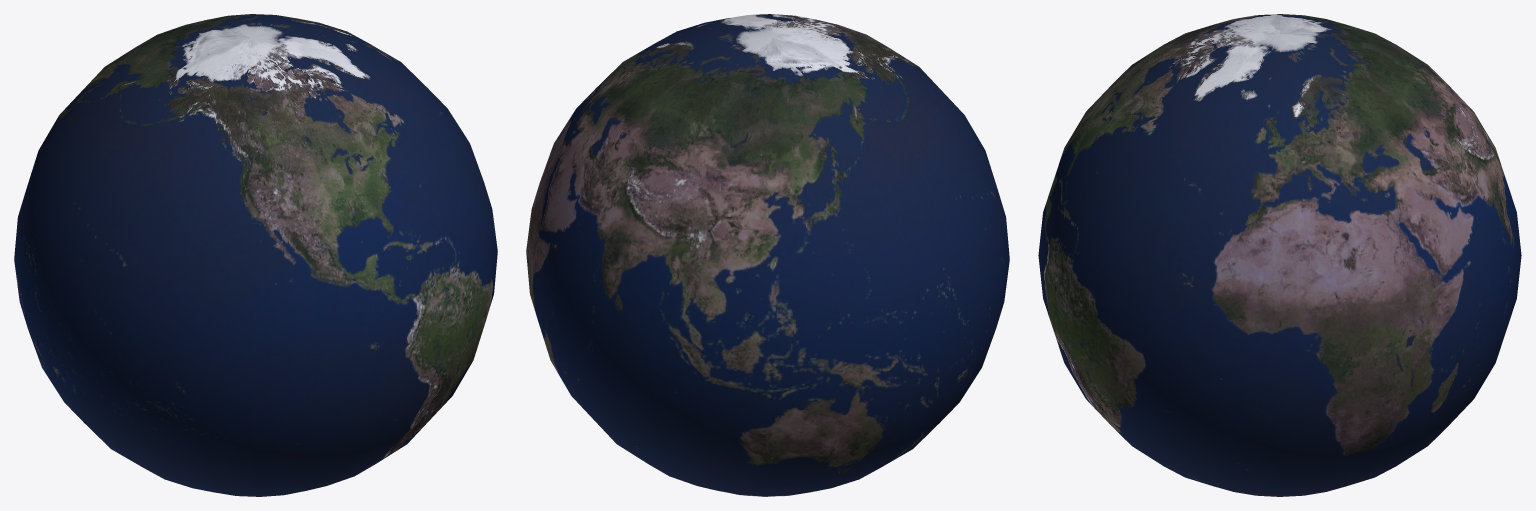
The model's file is earth.glb.
3 views of the same model, side by side, from view 1: azimuth 30°, elevation 25°; view 2: azimuth 150°, elevation 25°; view 3: azimuth 270°, elevation 25° (orthographic).
Parts seen in each view (by area): view 1: Sphere.001; view 2: Sphere.001; view 3: Sphere.001.
Part boxes in pixels (x1,y1,x2,y2): Sphere.001: (14,14,497,496); Sphere.001: (526,14,1009,496); Sphere.001: (1038,14,1521,496).
Size of the model in its own units: 2 by 2 by 2.
Materials: 1 (1 with a texture image).
